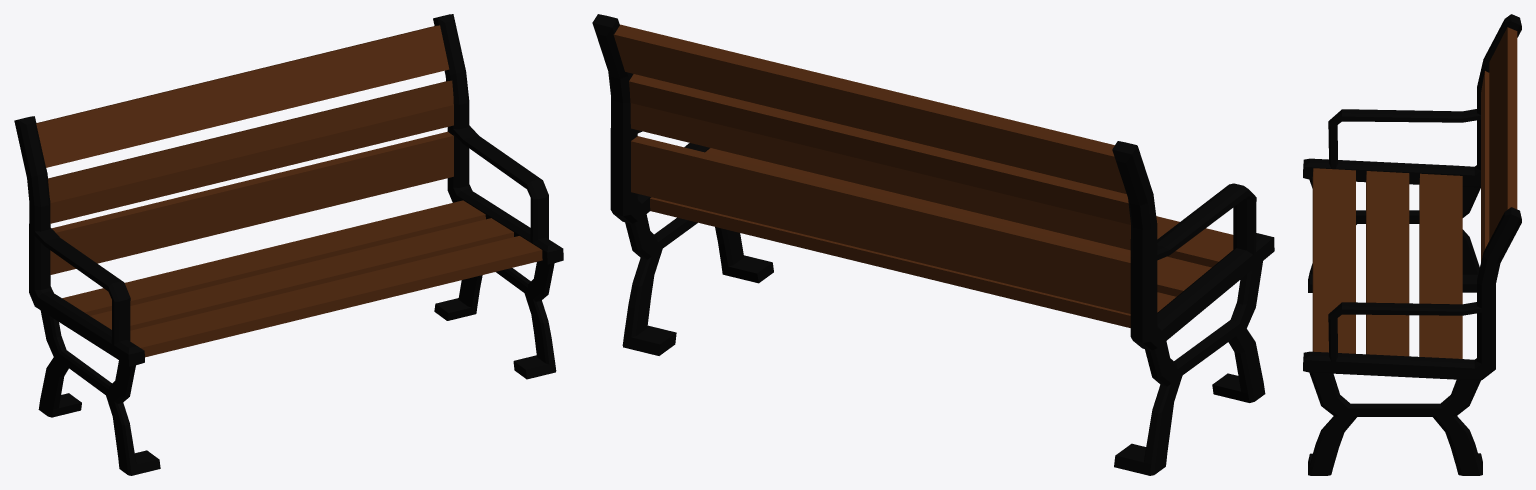
The model's file is M_bench.fbx.
3 renders of one model, left to right at view 1: azimuth 30°, elevation 25°; view 2: azimuth 150°, elevation 25°; view 3: azimuth 270°, elevation 25°, orthographic. The views are drawn at different scales.
Visible parts, largest first — view 1: Plane; view 2: Plane; view 3: Plane.
Boxes of the visible parts, x1=… form: Plane: x1=14, y1=14, x2=563, y2=475; Plane: x1=592, y1=14, x2=1274, y2=475; Plane: x1=1303, y1=14, x2=1521, y2=475.
Size of the model in its own units: 166 by 102 by 76.71.
